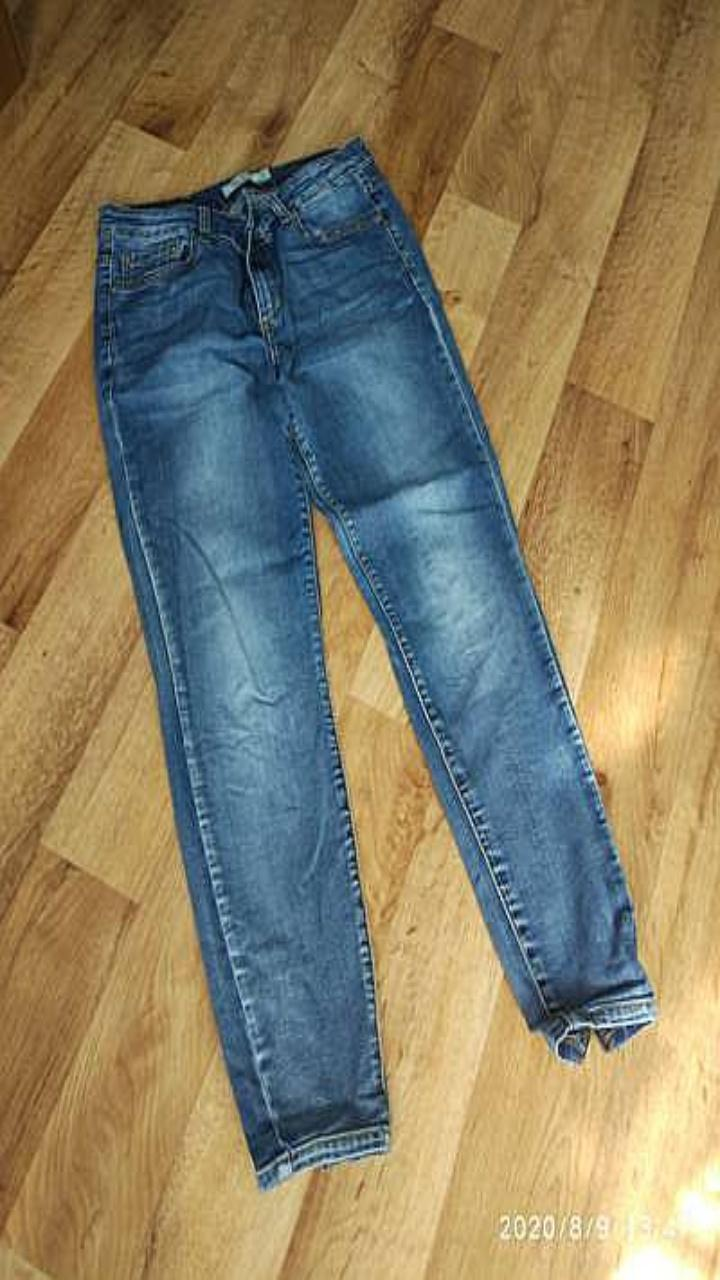Jeans: (94, 136, 656, 1188)
